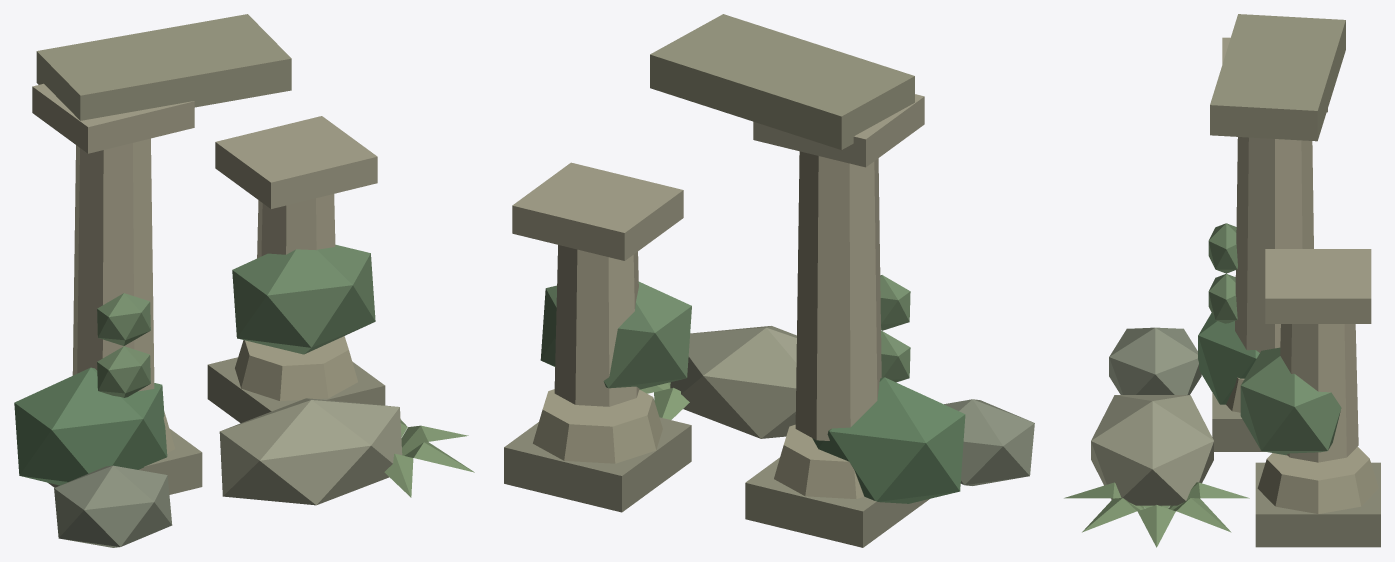
Rendered from xingyin-environment-v2__ruin_column_garden.glb.
3 views of the same model, side by side, from view 1: azimuth 30°, elevation 25°; view 2: azimuth 150°, elevation 25°; view 3: azimuth 270°, elevation 25° (orthographic). The views are drawn at different scales.
Visible parts, largest first — view 1: ruin_column_garden; view 2: ruin_column_garden; view 3: ruin_column_garden.
Part boxes in pixels (x1,y1,x2,y2): ruin_column_garden: [14, 14, 474, 547]; ruin_column_garden: [504, 14, 1034, 547]; ruin_column_garden: [1064, 14, 1380, 547].
Size of the model in its own units: 3.24 by 3.16 by 2.28.
